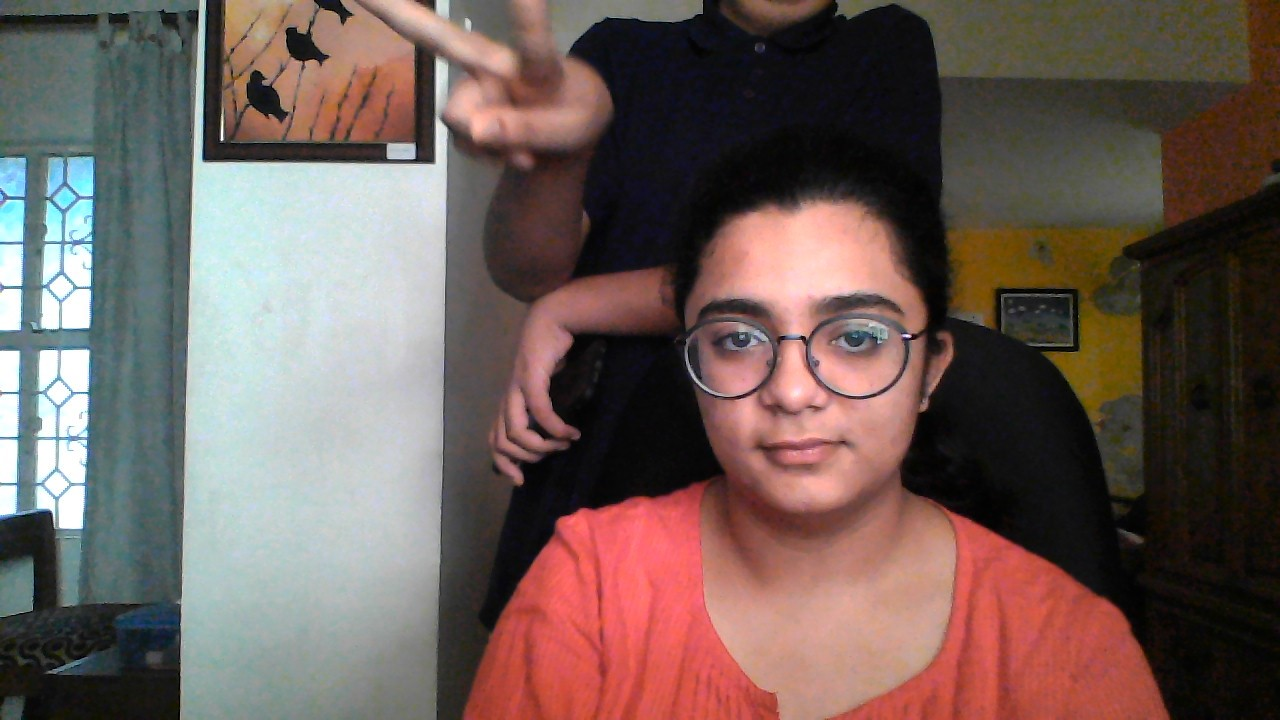person: (663, 170, 1016, 664), (331, 1, 1070, 168)
